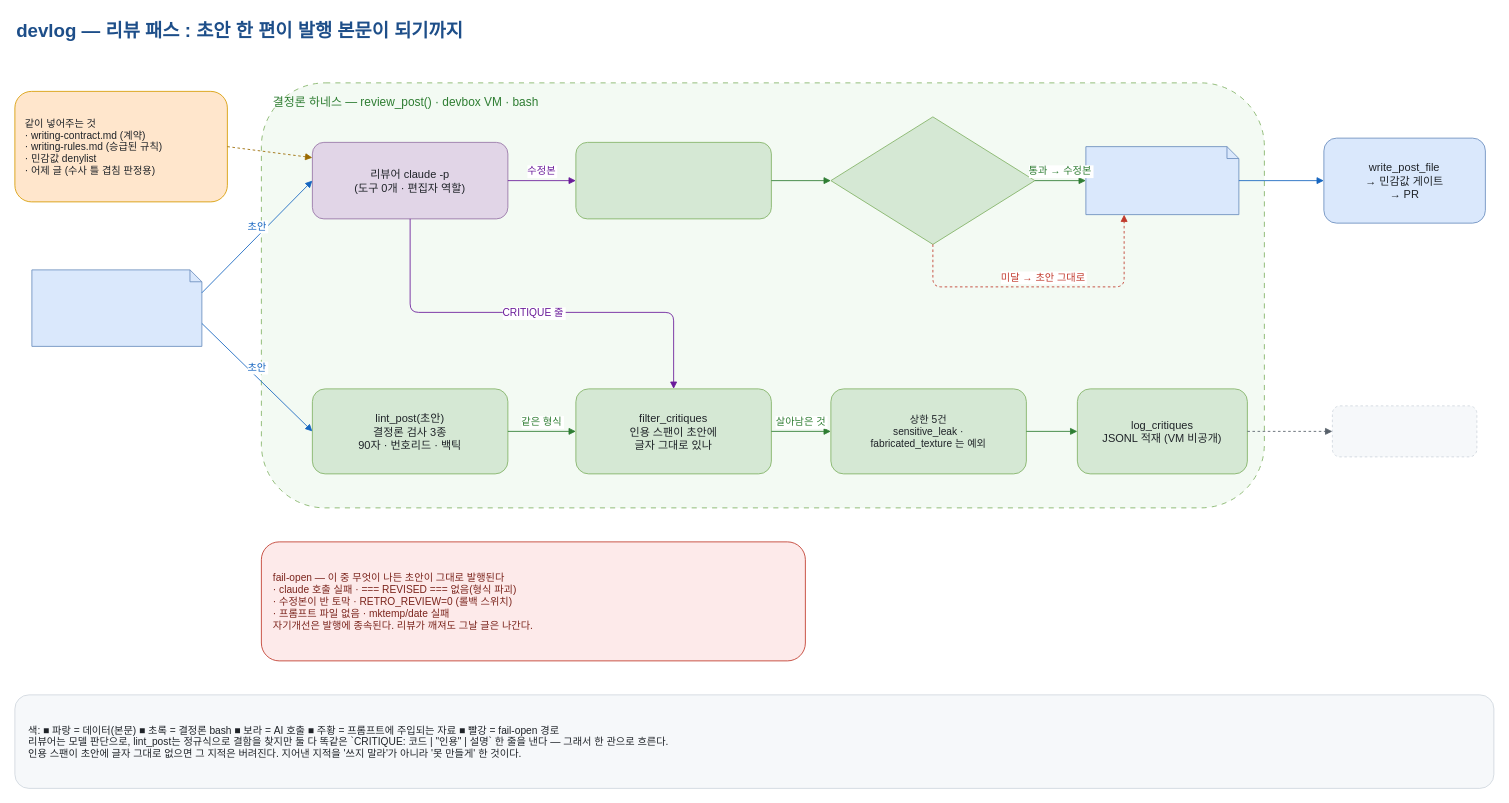
The diagram is 1509 pixels wide and 803 high, and some of its shapes have lost their labels. Each missing label, with the centre of its shape:
review_revised === REVISED === 사이 추출: the point at 673,180
revision_sane 수정본이 초안 절반 이상인가 (반 토막 방지): the point at 932,180
승급으로 (다음 그림): the point at 1404,431
초안 generate_post 출력 본문: the point at 116,307
최종 본문: the point at 1162,180
